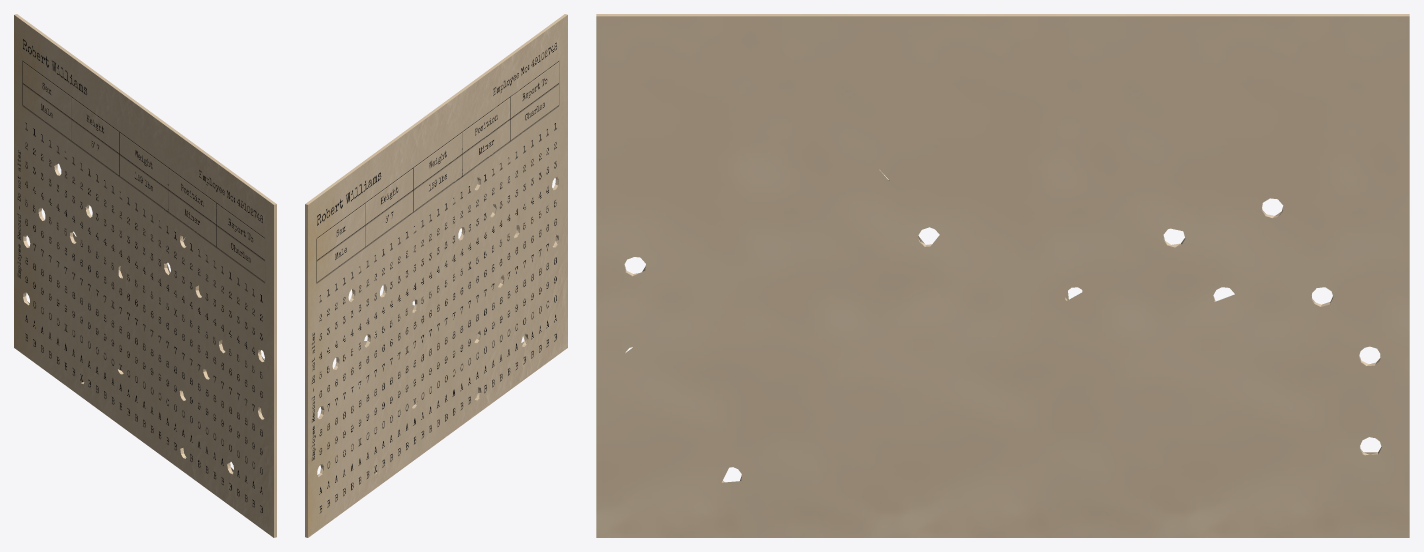
File: employeeCard03Aadi.fbx
3 views of the same model, side by side, from view 1: azimuth 30°, elevation 25°; view 2: azimuth 150°, elevation 25°; view 3: azimuth 270°, elevation 25° (orthographic). The views are drawn at different scales.
Visible parts, largest first — view 1: Employee 03 Card Puzzle Punched; view 2: Employee 03 Card Puzzle Punched; view 3: Employee 03 Card Puzzle Punched.
Boxes of the visible parts, x1,y1,x2,y2 form: Employee 03 Card Puzzle Punched: [14, 14, 276, 537]; Employee 03 Card Puzzle Punched: [305, 14, 567, 537]; Employee 03 Card Puzzle Punched: [596, 14, 1409, 537].
Size of the model in its own units: 0.9779 by 100 by 141.
Materials: 1 (1 with a texture image).
